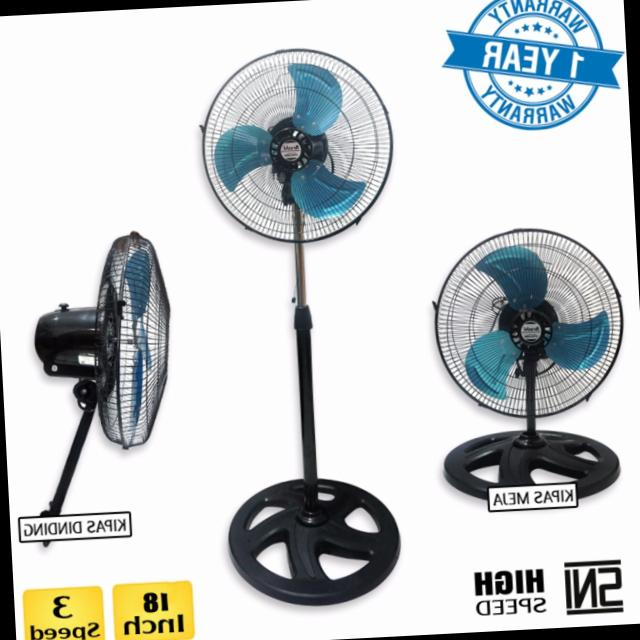fan: (188, 35, 426, 624)
